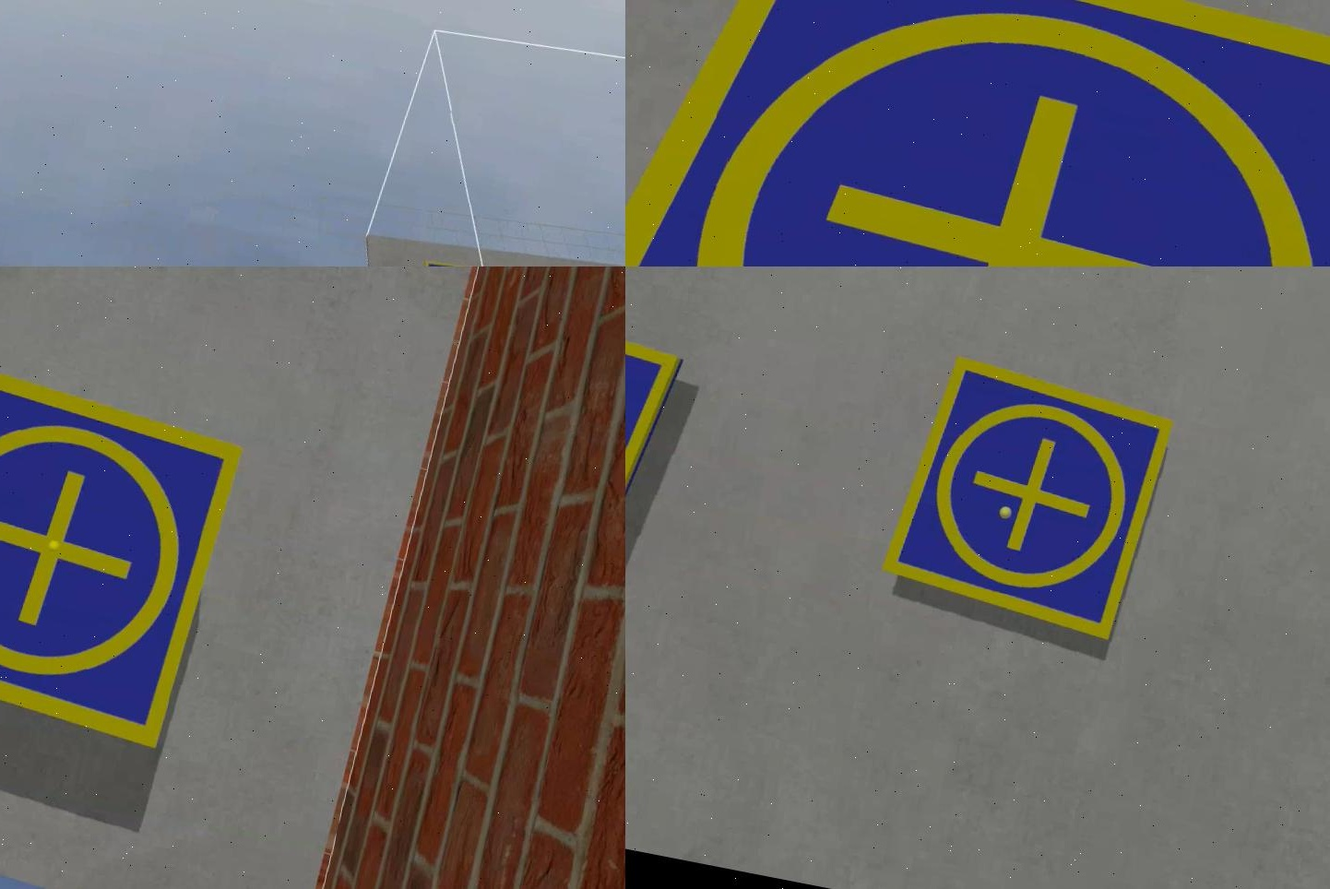small_base: (624, 1, 1328, 267), (0, 354, 253, 762), (869, 349, 1179, 652), (624, 297, 689, 590), (413, 255, 491, 267)
